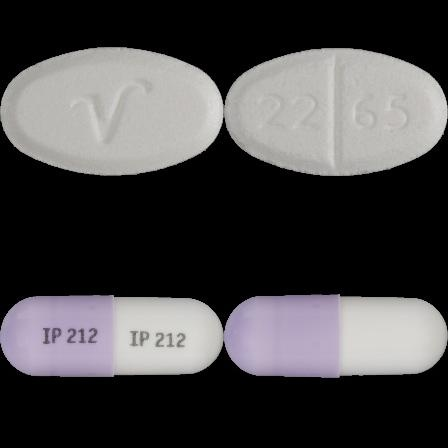53808-1036: (0, 0, 224, 224)
